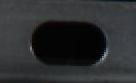holes: (29, 18, 110, 67)
